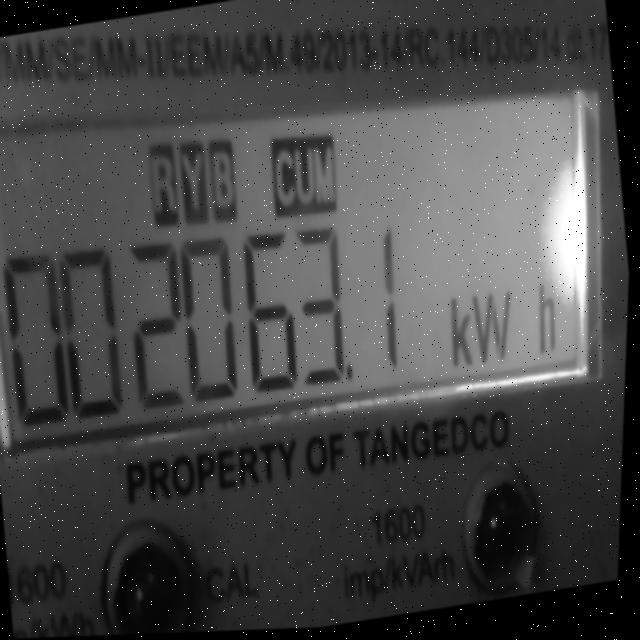.: (343, 358, 361, 390)
0: (48, 230, 138, 430), (0, 246, 82, 438), (172, 226, 252, 412)
1: (356, 205, 415, 377)
2: (118, 232, 201, 423)
3: (287, 217, 363, 403)
6: (230, 218, 311, 403)
